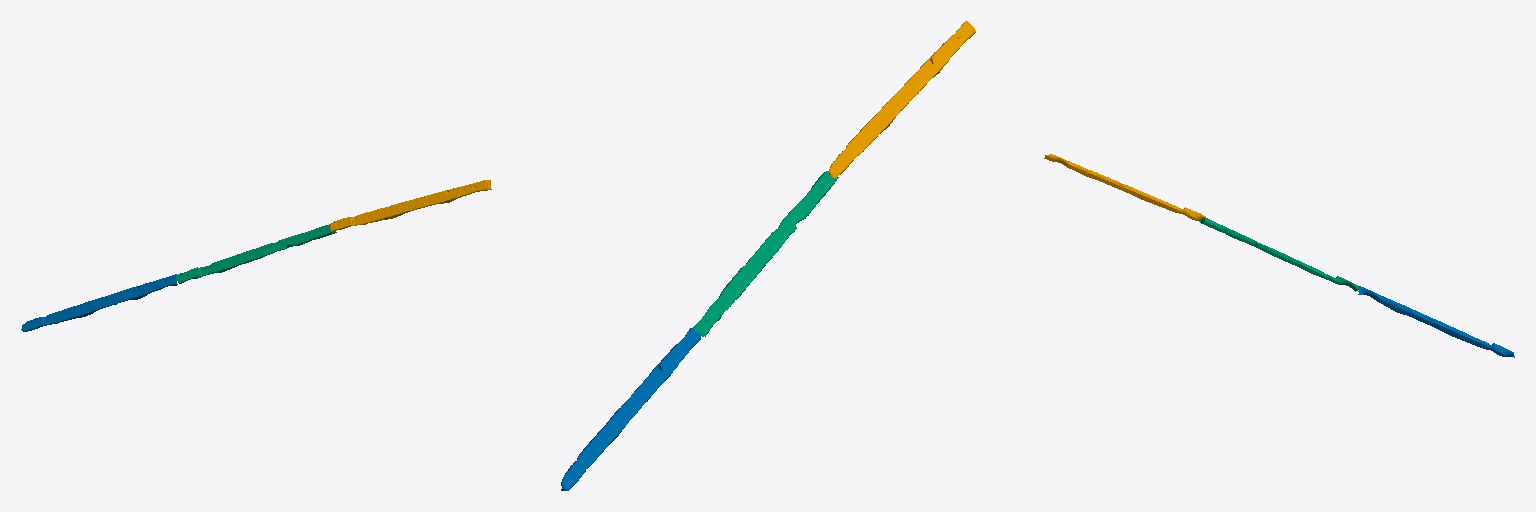
robot.urdf — foldingrule:
<?xml version="1.0"?>
<robot name="foldingrule">
  <link name ="rb0">
    <visual>
      <origin xyz='-0.019761 -0.155827 0.000482' rpy='-2.441904 -0.132735 0.987755'/>
      <geometry>
        <mesh filename="package://articulated_objects_db/data/objects/foldingrule/meshes/fr_left.obj"  scale="1 1 1" />
      </geometry>
    </visual>
  </link>
  <joint name="j_0_1" type="revolute">
    <parent link="rb0"/>
    <child link="rb1"/>
    <origin xyz="0.00540850949985 0.117853058337 -0.0620448158783" rpy="0 0 0 "/>
    <axis xyz="-0.658335935419 0.410320271084 0.631055521546"/>
    <limit effort="30" velocity="1.0" lower="-3.1416" upper="3.1416"/>
  </joint>
  <joint name="j_0_fixed" type="fixed">
    <parent link="rb1"/>
    <child link="rb1_marker"/>
      <origin xyz="0.0170770485692 0.0963769950822 -0.0447823827532" rpy="-0.549668424378 -0.642512137482 0.229001153833"/>
    <limit effort="30" velocity="1.0" lower="-3.1416" upper="3.1416"/>
  </joint>
  <joint name="j_1_2" type="revolute">
    <parent link="rb1_marker"/>
    <child link="rb2"/>
    <origin xyz="0.00339890014867 0.0928533797647 -0.00725997781431" rpy="0 0 0 "/>
    <axis xyz="-0.0817305279205 -0.0478181020802 0.995506679997"/>
    <limit effort="30" velocity="1.0" lower="-3.1416" upper="3.1416"/>
  </joint>
  <joint name="j_1_fixed" type="fixed">
    <parent link="rb2"/>
    <child link="rb2_marker"/>
      <origin xyz="0.020131879643 0.133163148151 0.00703877578827" rpy="-3.13234446232 0.165790060224 -3.10538425561"/>
    <limit effort="30" velocity="1.0" lower="-3.1416" upper="3.1416"/>
  </joint>
  <link name ="rb1">
  </link>
  <link name ="rb1_marker">
    <visual>
      <origin xyz='0.003655 -0.016847 -0.022524' rpy='-1.597983 -0.031794 0.939435'/>
      <geometry>
        <mesh filename="package://articulated_objects_db/data/objects/foldingrule/meshes/fr_middle.obj"  scale="1 1 1" />
      </geometry>
    </visual>
  </link>
  <link name ="rb2">
  </link>
  <link name ="rb2_marker">
    <visual>
      <origin xyz='0.015763 -0.046168 0.017512' rpy='1.581930 0.012702 2.290536'/>
      <geometry>
        <mesh filename="package://articulated_objects_db/data/objects/foldingrule/meshes/fr_right.obj"  scale="1 1 1" />
      </geometry>
    </visual>
  </link>
</robot>

--- Facts derived from the render (not from the file) ---
The picture shows the robot from 3 angles, left to right: view 1: azimuth 90°, elevation 25°; view 2: azimuth 150°, elevation 25°; view 3: azimuth 270°, elevation 25°; orthographic projection.
Model foldingrule with 5 links and 4 joints (2 revolute, 2 fixed), rooted at rb0, posed every joint at zero.
Visible links, largest first — view 1: rb0, rb2_marker, rb1_marker; view 2: rb0, rb2_marker, rb1_marker; view 3: rb2_marker, rb0, rb1_marker.
Link boxes in pixels (x1,y1,x2,y2): rb0: (330,180,491,230); rb2_marker: (21,274,177,331); rb1_marker: (176,224,336,283); rb0: (829,21,975,178); rb2_marker: (561,328,700,490); rb1_marker: (693,171,838,336); rb2_marker: (1358,286,1514,357); rb0: (1044,154,1205,220); rb1_marker: (1199,217,1358,291).
Bounding box of the posed robot: 0.0867 × 0.5442 × 0.226 m (x, y, z).
3 mesh visuals loaded from 3 distinct referenced files (3 OBJ).
